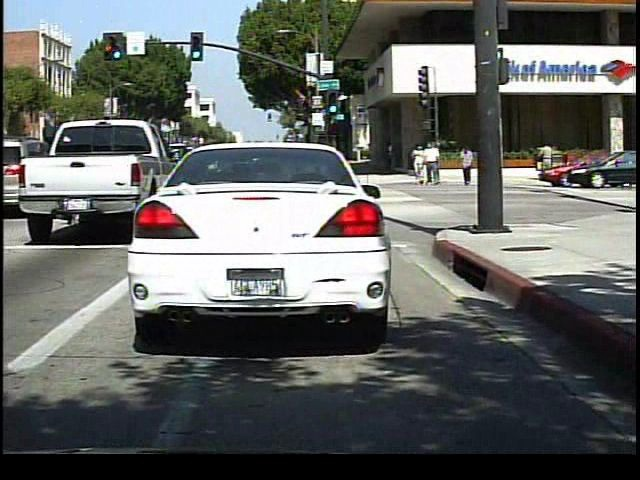person: (423, 139, 443, 188), (535, 139, 556, 182), (458, 142, 476, 187), (411, 142, 428, 188)
